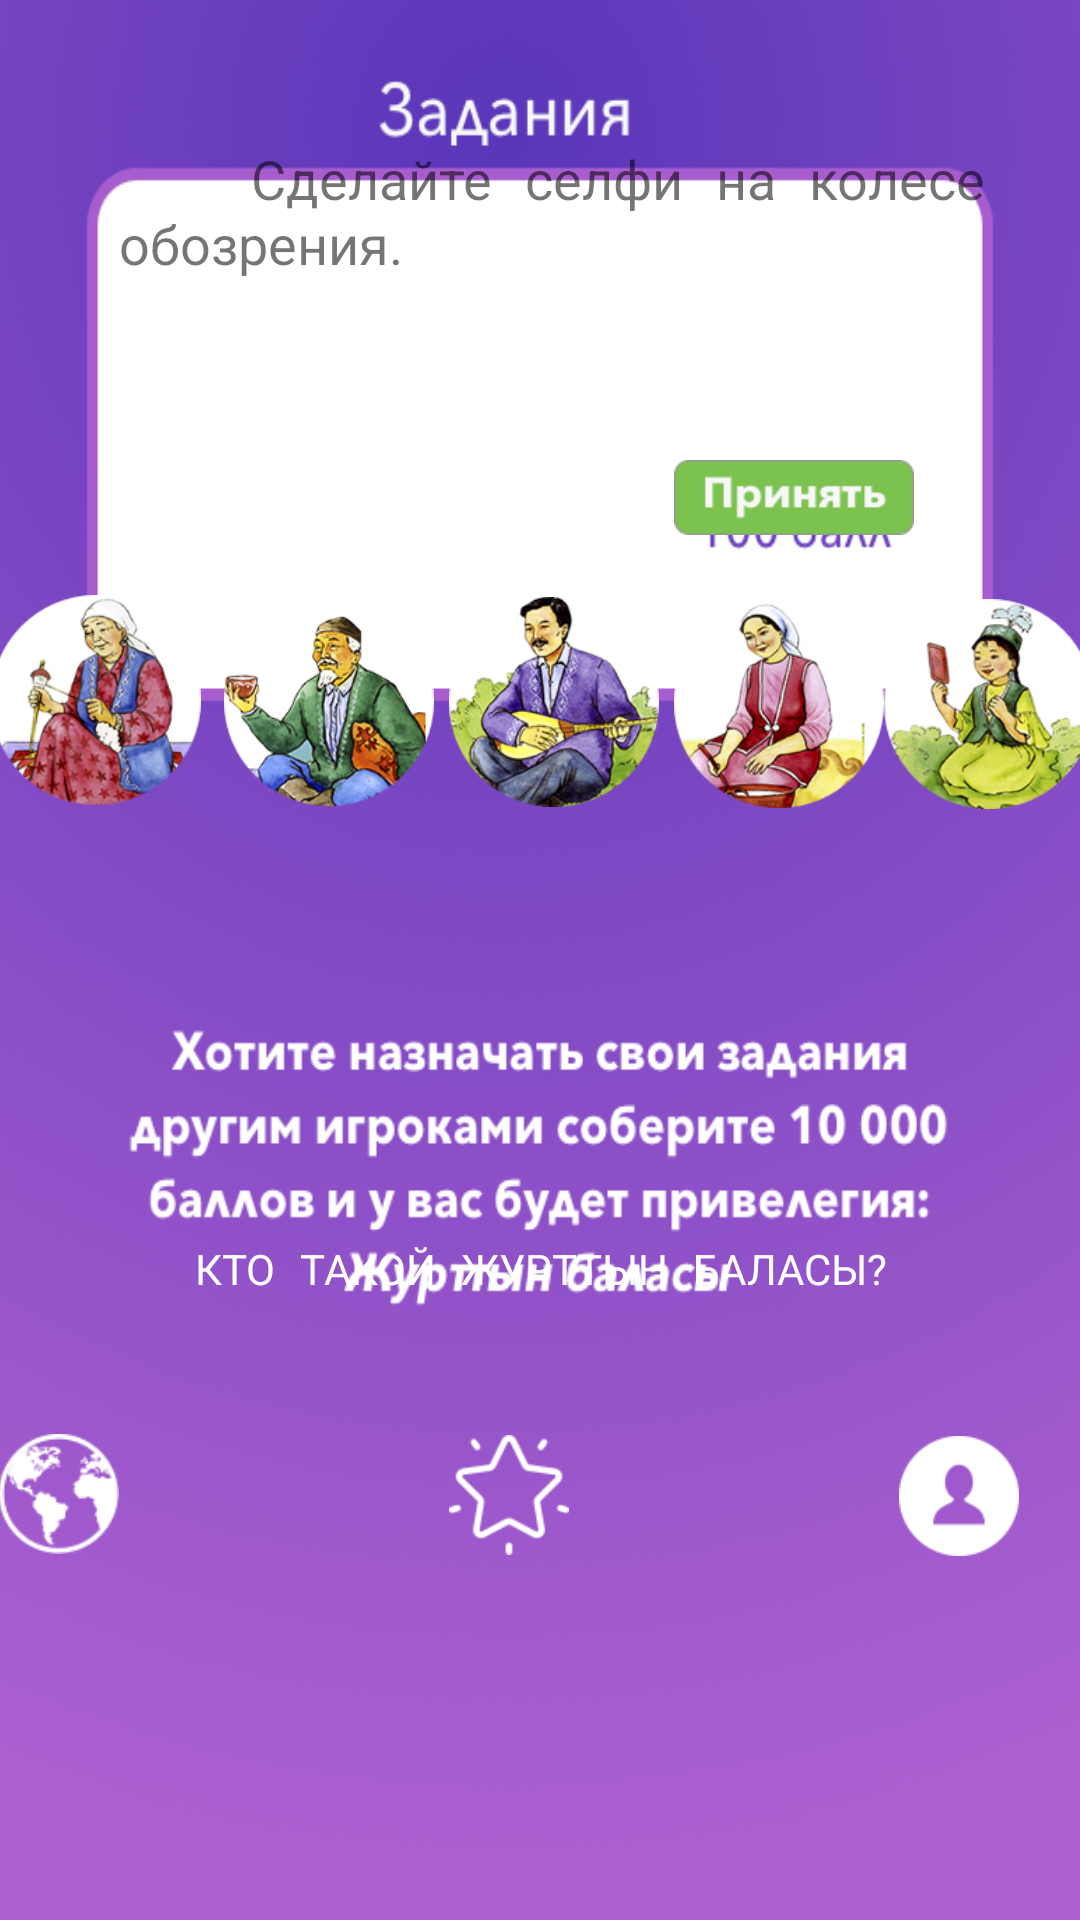

Screen size 1080px x 1920px. Icon name, then its center in pixels as [x,y]:
aje: [100,700]
ake: [554,702]
ana: [779,703]
ata: [329,701]
earth: [59,1494]
favorites: [509,1495]
kiz: [982,704]
user: [959,1496]
